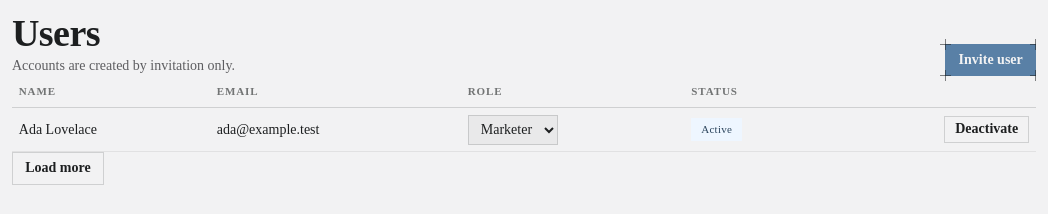
Test: UsersTable › pagination › shows Load more while there is a next page, fetches it with the cursor, and hides the button at the end
Expected: the text "Ada Lovelace" is shown, [19,122,97,137]
Expected: the text "Bob Builder" is not shown
Click the button "Load more" at (58,169), box [12,152,104,185]
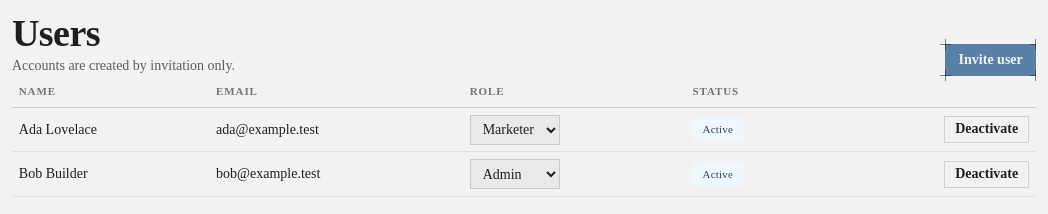
Expected: the text "Bob Builder" is shown, [19,166,88,181]
Expected: the number of rows with test id "user-row" is 2, [12,107,1036,152]; [12,152,1036,197]
Expected: the button "Load more" is gone
